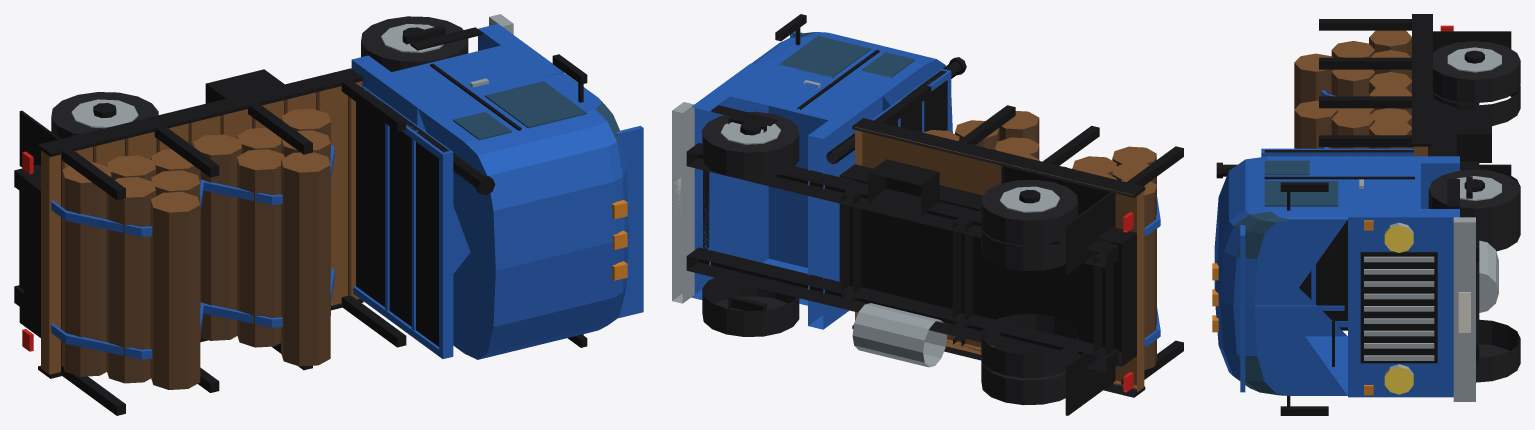
Rendered from loaded.glb.
3 renders of one model, left to right at view 1: azimuth 30°, elevation 25°; view 2: azimuth 150°, elevation 25°; view 3: azimuth 270°, elevation 25°, orthographic. The views are drawn at different scales.
Parts seen in each view (by area): view 1: loaded_cab_upper, loaded_headboard, loaded_deck, loaded_log120, loaded_log020, loaded_log000, loaded_log010, loaded_log110, loaded_log100, loaded_cab_arch, loaded_side1_-3.60_1.67_black, loaded_front1 (+33 smaller); view 2: loaded_subframe, loaded_cab_arch, loaded_chassis-1, loaded_deck, loaded_cab_front, loaded_cab_back, loaded_chassis1, loaded_rear_out1, loaded_front1, loaded_cab_upper, loaded_fuel_tank, loaded_bumper (+31 smaller); view 3: loaded_cab_upper, loaded_cab_front, loaded_grille, loaded_rear_out1, loaded_front1, loaded_bumper, loaded_cab_arch, loaded_headboard, loaded_side1_-3.60_1.67_black, loaded_front-1, loaded_battery_box, loaded_cab_back (+43 smaller).
Boxes of the visible parts, x1,y1,x2,y2 form: loaded_cab_upper: [417, 73, 628, 359]; loaded_headboard: [356, 87, 449, 346]; loaded_deck: [41, 81, 362, 374]; loaded_log120: [281, 152, 330, 366]; loaded_log020: [150, 191, 200, 389]; loaded_log000: [62, 162, 111, 376]; loaded_log010: [106, 177, 155, 383]; loaded_log110: [237, 149, 284, 347]; loaded_log100: [192, 134, 242, 340]; loaded_cab_arch: [392, 45, 543, 273]; loaded_side1_-3.60_1.67_black: [38, 68, 363, 156]; loaded_front1: [361, 16, 468, 71]; loaded_subframe: [839, 164, 1136, 366]; loaded_cab_arch: [730, 68, 866, 305]; loaded_chassis-1: [686, 247, 1118, 372]; loaded_deck: [855, 127, 1144, 392]; loaded_cab_front: [691, 63, 768, 299]; loaded_cab_back: [808, 92, 882, 329]; loaded_chassis1: [686, 143, 1118, 268]; loaded_rear_out1: [981, 180, 1078, 245]; loaded_front1: [702, 111, 799, 178]; loaded_cab_upper: [751, 32, 952, 132]; loaded_fuel_tank: [852, 303, 947, 367]; loaded_bumper: [672, 102, 694, 303]; loaded_cab_upper: [1214, 156, 1347, 395]; loaded_cab_front: [1348, 209, 1459, 397]; loaded_grille: [1360, 252, 1437, 363]; loaded_rear_out1: [1433, 41, 1520, 103]; loaded_front1: [1428, 169, 1520, 232]; loaded_bumper: [1453, 217, 1475, 401]; loaded_cab_arch: [1348, 163, 1420, 208]; loaded_headboard: [1264, 150, 1413, 320]; loaded_side1_-3.60_1.67_black: [1412, 14, 1432, 146]; loaded_front-1: [1476, 319, 1520, 382]; loaded_battery_box: [1456, 109, 1491, 162]; loaded_cab_back: [1348, 156, 1459, 208].
Size of the model in its own units: 7.61 by 3.98 by 4.82.
